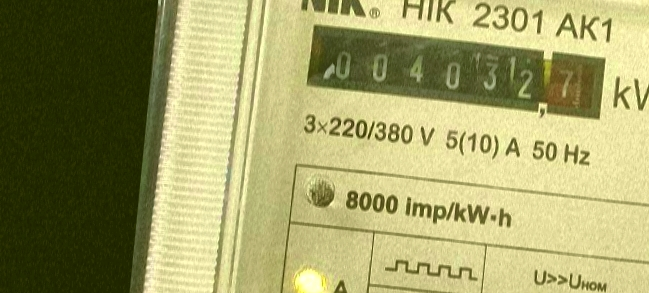0: (369, 50, 392, 85), (333, 47, 355, 82), (443, 58, 465, 92)
2: (516, 66, 538, 101)
3: (481, 59, 502, 93)
4: (406, 51, 429, 89)
7: (557, 67, 578, 101)
screen: (296, 16, 617, 133)
